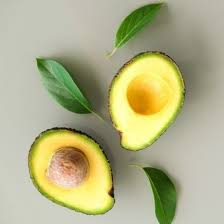avocado: (109, 51, 186, 151), (28, 128, 115, 216)
